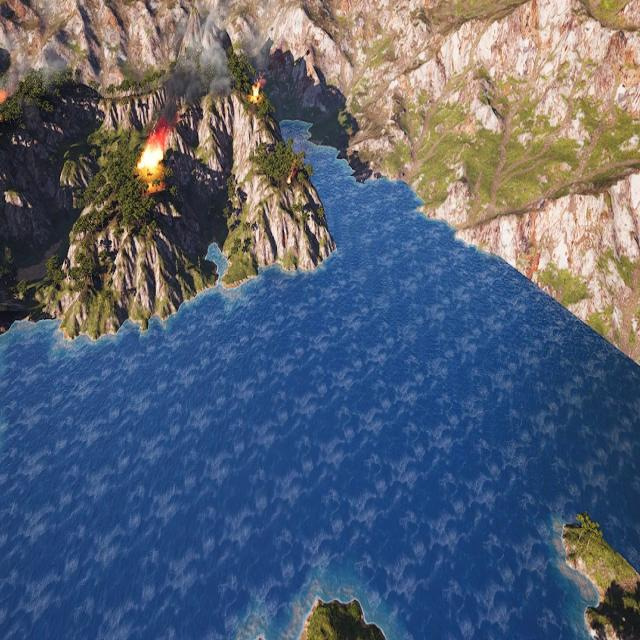fire: (138, 137, 167, 176), (248, 84, 261, 105), (0, 86, 9, 103), (287, 173, 295, 187)
smoke: (144, 38, 231, 136), (0, 51, 69, 94), (245, 25, 274, 76)
